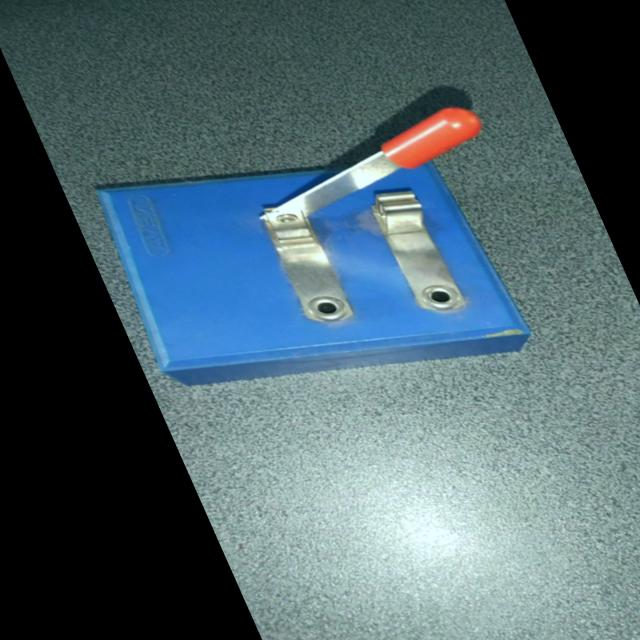L Switch: (49, 100, 617, 408)
